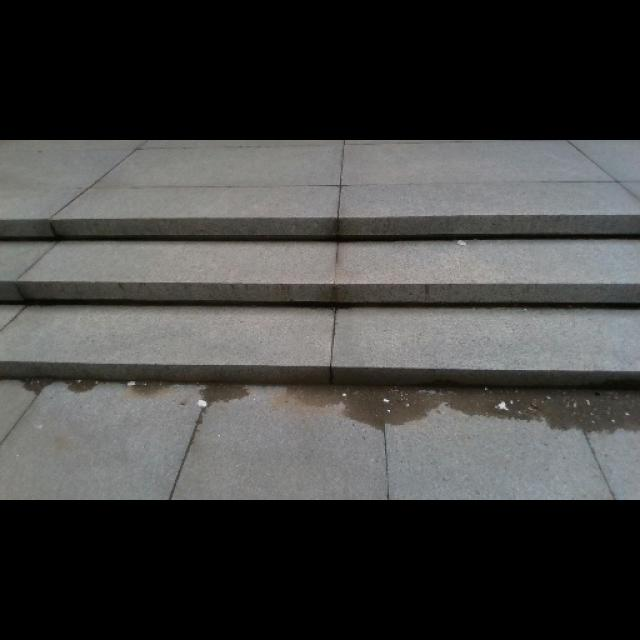Stairs: (0, 212, 639, 388)
